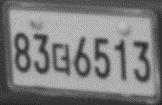1: (112, 37, 132, 80)
3: (131, 39, 152, 82), (32, 32, 50, 75)
5: (92, 36, 112, 79)
6: (72, 34, 91, 77)
8: (12, 32, 31, 73)
더: (52, 42, 71, 75)
